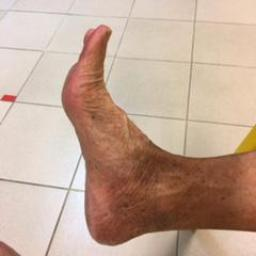Medial View -Right Foot-: (35, 8, 203, 253)
